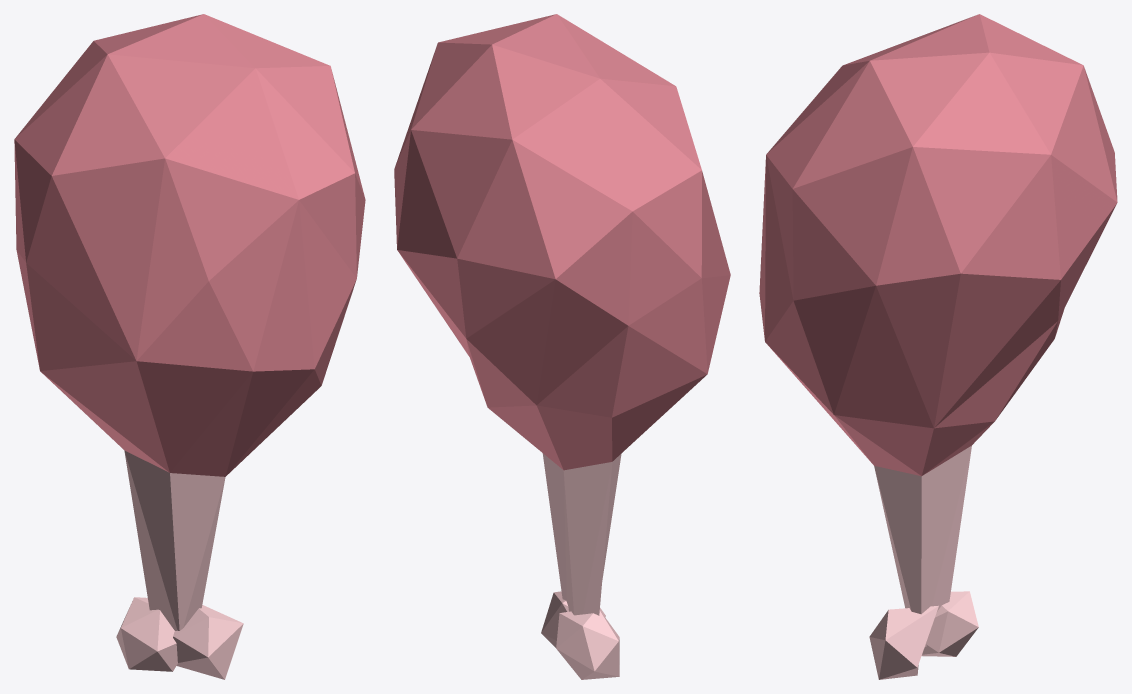
The model's file is SFI_Chicken_Cooked_002.fbx.
3 views of the same model, side by side, from view 1: azimuth 30°, elevation 25°; view 2: azimuth 150°, elevation 25°; view 3: azimuth 270°, elevation 25° (orthographic). The views are drawn at different scales.
Parts seen in each view (by area): view 1: SFI_Chicken_Cooked_002; view 2: SFI_Chicken_Cooked_002; view 3: SFI_Chicken_Cooked_002.
Part boxes in pixels (x1=…): SFI_Chicken_Cooked_002: x1=14, y1=14, x2=365, y2=679; SFI_Chicken_Cooked_002: x1=394, y1=14, x2=730, y2=679; SFI_Chicken_Cooked_002: x1=759, y1=14, x2=1117, y2=679.
Size of the model in its own units: 15.89 by 31.21 by 15.74.
